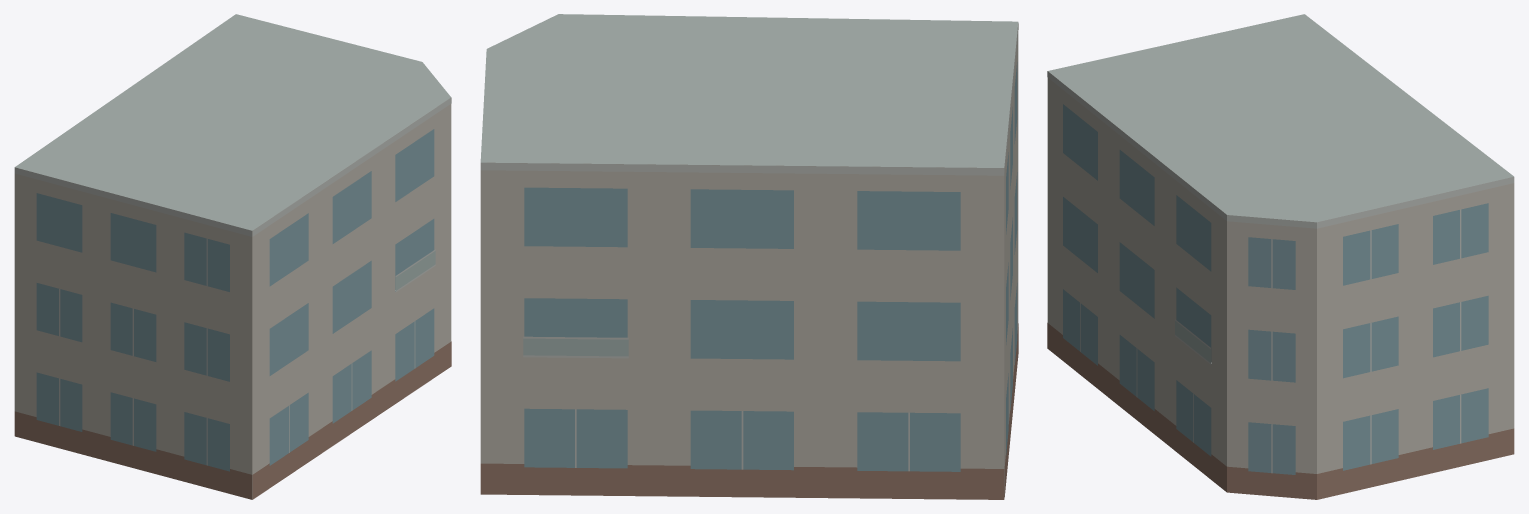
Rendered from survey-upis-32858024.glb.
3 views of the same model, side by side, from view 1: azimuth 30°, elevation 25°; view 2: azimuth 150°, elevation 25°; view 3: azimuth 270°, elevation 25° (orthographic). The views are drawn at different scales.
Visible parts, largest first — view 1: survey-upis-32858024.tmp; view 2: survey-upis-32858024.tmp; view 3: survey-upis-32858024.tmp.
Part boxes in pixels (x1,y1,x2,y2): survey-upis-32858024.tmp: [14, 14, 451, 499]; survey-upis-32858024.tmp: [480, 14, 1018, 499]; survey-upis-32858024.tmp: [1047, 14, 1514, 499].
Size of the model in its own units: 17.17 by 10.66 by 16.26.
